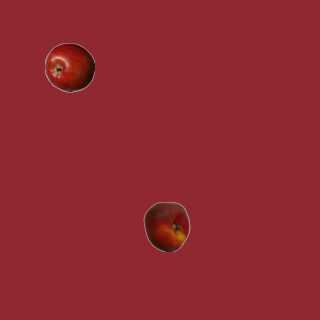Apple Braeburn: (44, 42, 94, 92)
Nectarine Flat: (141, 201, 191, 251)
